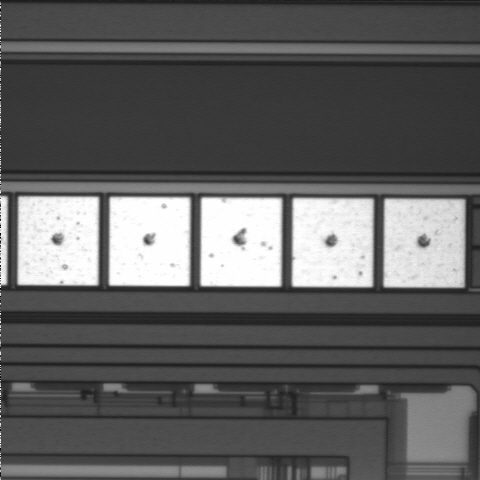pad: (200, 198, 282, 287), (18, 196, 99, 285), (109, 197, 190, 286), (292, 198, 373, 287), (384, 199, 465, 287)
